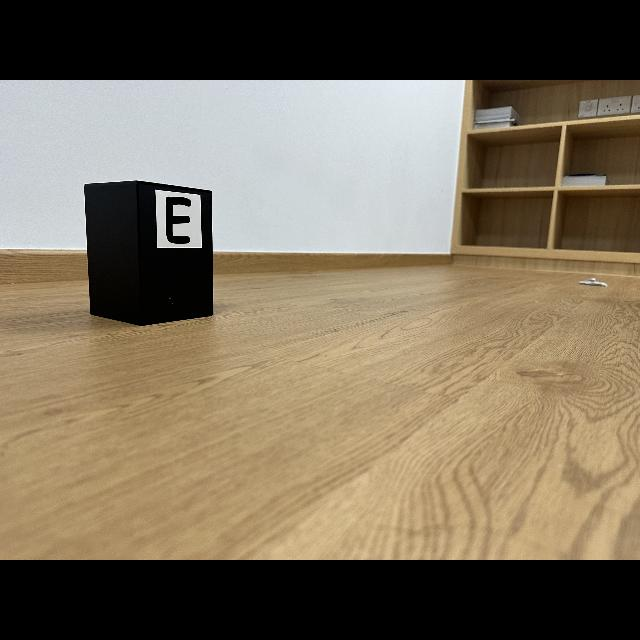E: (165, 196, 191, 244)
